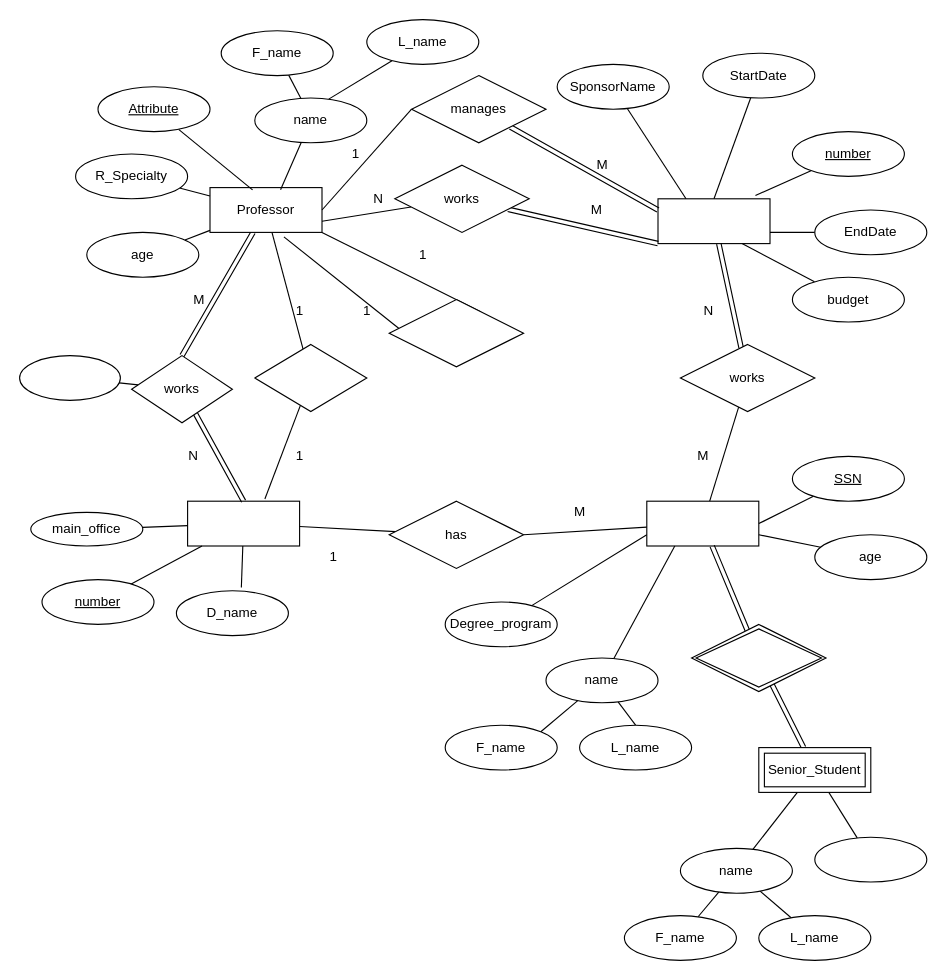
Image size: 946x980. Some labels were removed from this diagram. The centre of each missing label's shape, as x and y in pixels:
"advises" goes at pixel 758 657.
"Department" goes at pixel 243 523.
"GraduateStudent" goes at pixel 702 523.
"has(run)" goes at pixel 310 377.
"Project" goes at pixel 713 221.
"relationship" goes at pixel 870 859.
"supervises" goes at pixel 456 332.
"time" goes at pixel 69 377.
